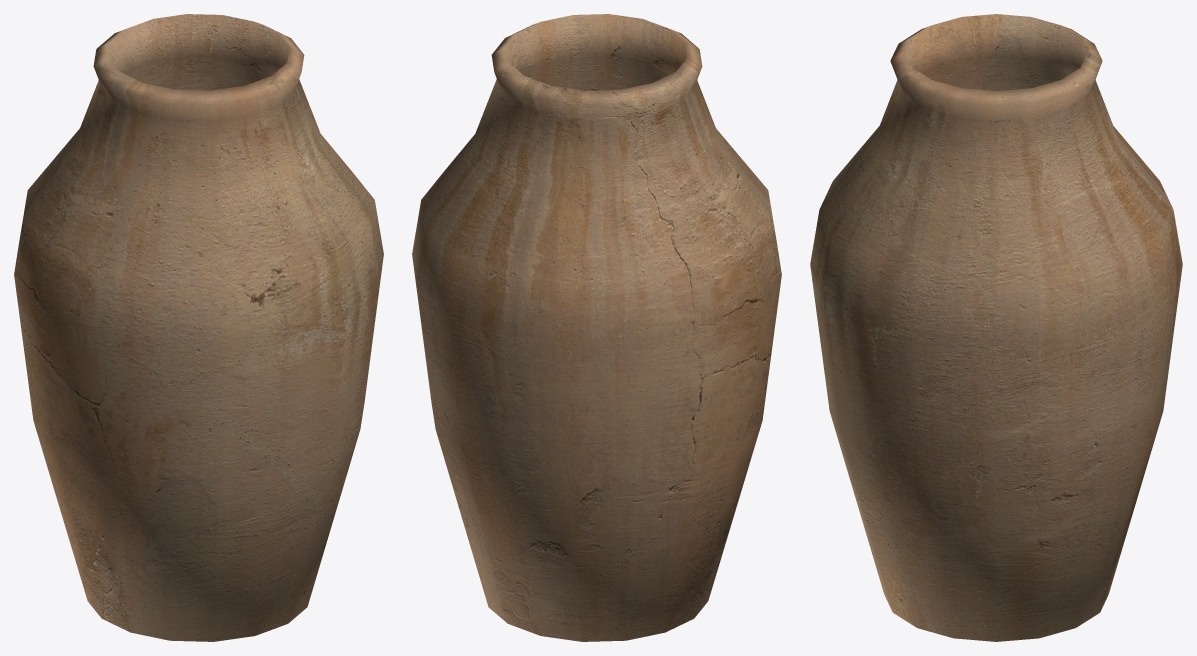
File: jar3.fbx
3 views of the same model, side by side, from view 1: azimuth 30°, elevation 25°; view 2: azimuth 150°, elevation 25°; view 3: azimuth 270°, elevation 25° (orthographic).
Parts seen in each view (by area): view 1: pCylinder35; view 2: pCylinder35; view 3: pCylinder35.
Part boxes in pixels (box(x1,y1,x2,y2)): pCylinder35: box(14, 14, 383, 641); pCylinder35: box(412, 14, 781, 641); pCylinder35: box(810, 14, 1182, 641).
Bounding box in the file's own units: 0.2814 × 0.4517 × 0.2814.
